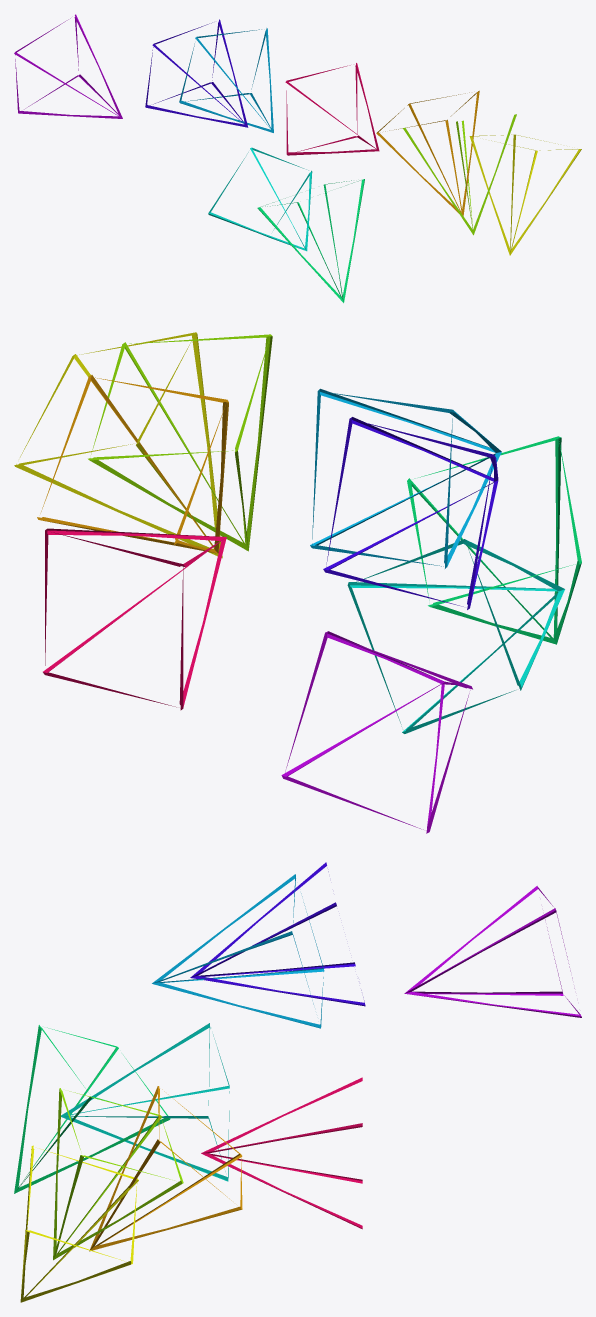
The model's file is pitch_180_wrist_video_80.glb.
3 views of the same model, one above another, from view 1: azimuth 30°, elevation 25°; view 2: azimuth 150°, elevation 25°; view 3: azimuth 270°, elevation 25° (orthographic). The views are drawn at different scales.
Visible parts, largest first — view 1: world; view 2: world; view 3: world.
Part boxes in pixels (left/top/right/bottom): world: left=14, top=14, right=581, bottom=302; world: left=14, top=332, right=581, bottom=833; world: left=14, top=862, right=581, bottom=1302.
Bounding box in the file's own units: 0.9206 × 0.4667 × 0.8348.
